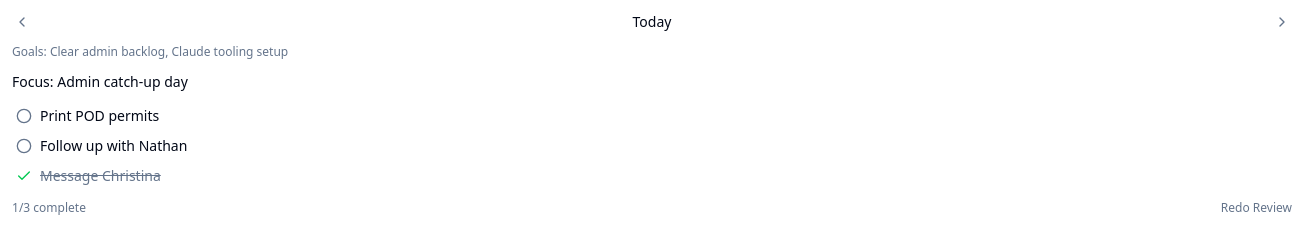
Test: TodayTodos › shows "Back to today" button after navigating away
Expected: the text "Print POD permits" is shown, [40,106,159,126]
Click the button named "Next day".
click(1282, 22)  # box [1272,12,1292,32]
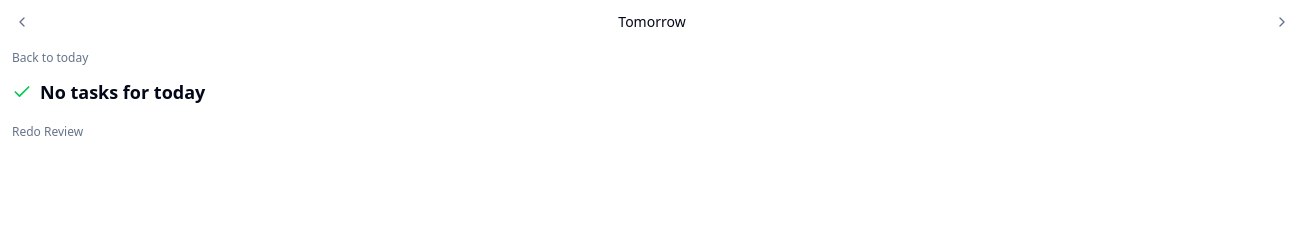
Now the button "Back to today" is shown, box [12,50,88,66]
